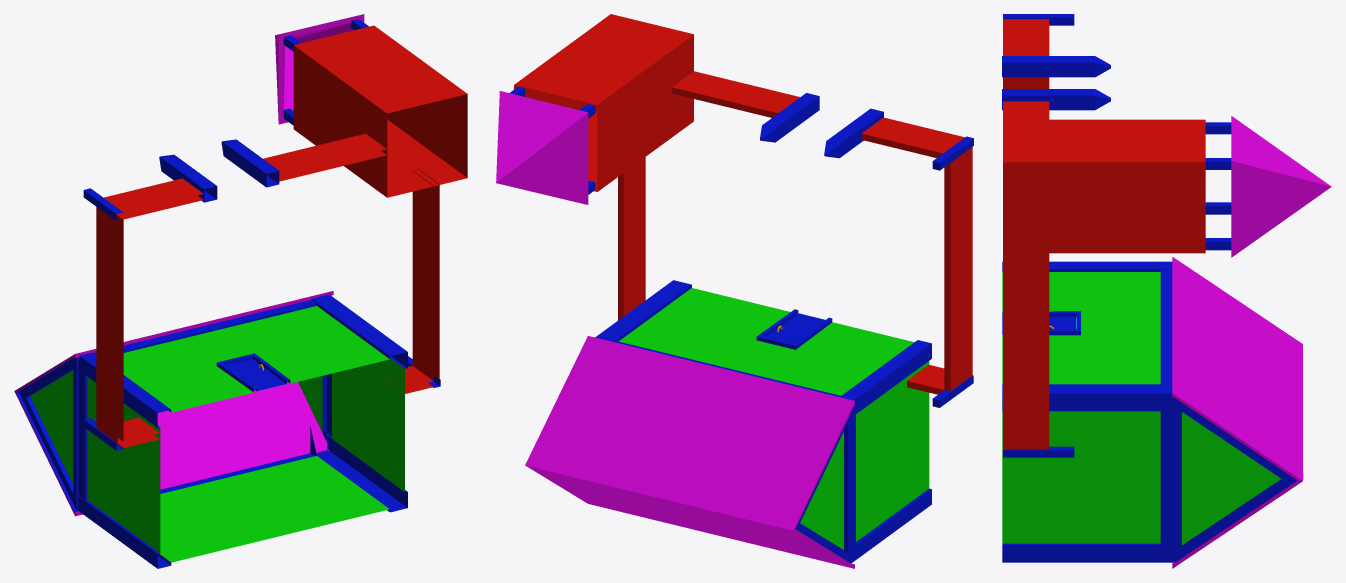
The model's file is Baracks.fbx.
The picture shows the model from 3 angles, left to right: view 1: azimuth 30°, elevation 25°; view 2: azimuth 150°, elevation 25°; view 3: azimuth 270°, elevation 25°; orthographic projection. The views are drawn at different scales.
Parts seen in each view (by area): view 1: Cube.000; view 2: Cube.000; view 3: Cube.000.
Boxes of the visible parts, left/top/right/bottom form: Cube.000: left=14, top=14, right=467, bottom=568; Cube.000: left=496, top=14, right=973, bottom=568; Cube.000: left=1002, top=14, right=1331, bottom=568.
Bounding box in the file's own units: 1127 × 1235 × 841.
